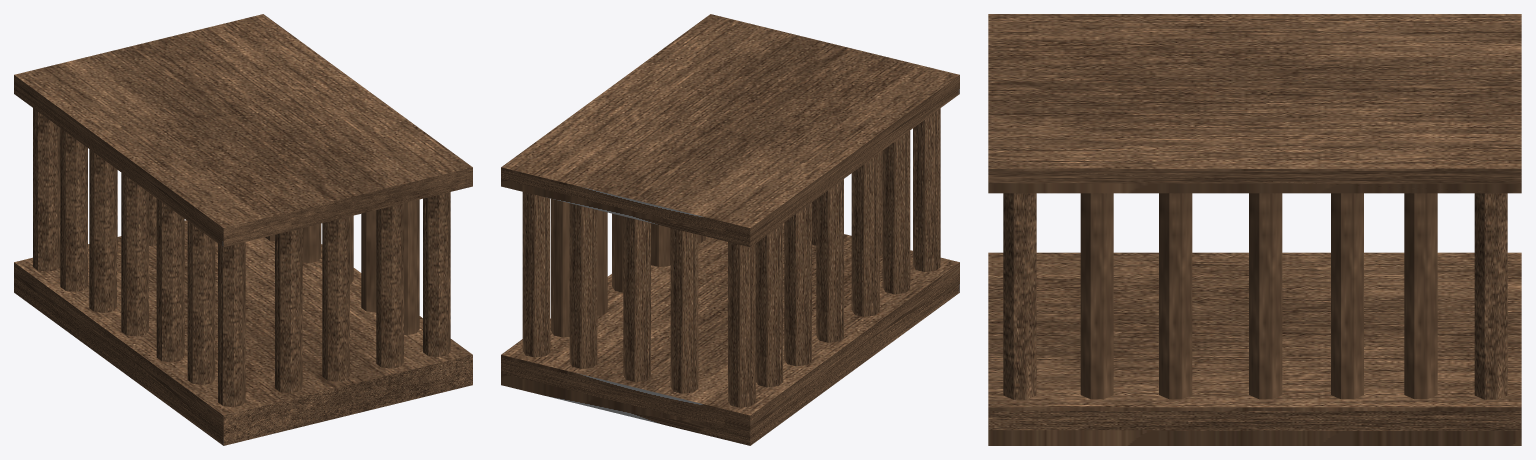
Rendered from tutCAGE.glb.
3 views of the same model, side by side, from view 1: azimuth 30°, elevation 25°; view 2: azimuth 150°, elevation 25°; view 3: azimuth 270°, elevation 25° (orthographic). The views are drawn at different scales.
Parts seen in each view (by area): view 1: Cube.831; view 2: Cube.831; view 3: Cube.831.
Boxes of the visible parts, x1,y1,x2,y2 form: Cube.831: (14,14,472,445); Cube.831: (501,14,959,445); Cube.831: (988,14,1521,445).
Size of the model in its own units: 4.07 by 3.4 by 5.93.
22 materials, 22 textured.
